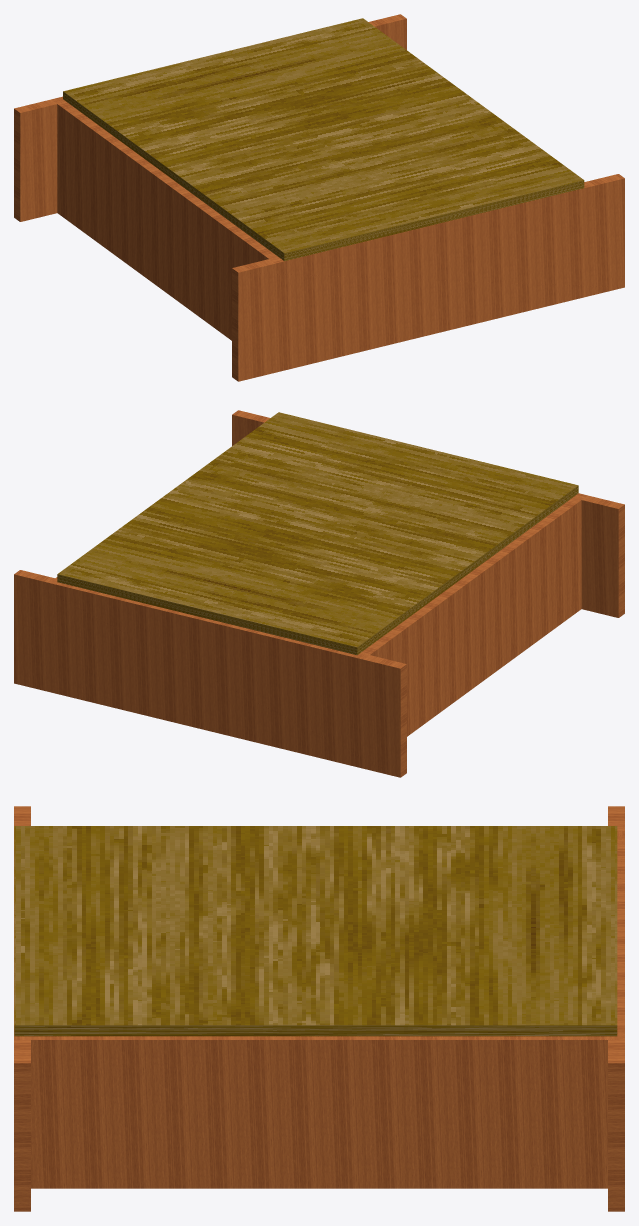
Rendered from SecondFloor.glb.
3 views of the same model, one above another, from view 1: azimuth 30°, elevation 25°; view 2: azimuth 150°, elevation 25°; view 3: azimuth 270°, elevation 25° (orthographic). The views are drawn at different scales.
Visible parts, largest first — view 1: cabinet.003; view 2: cabinet.003; view 3: cabinet.003.
Part boxes in pixels (x1=…): cabinet.003: x1=14, y1=14, x2=624, y2=381; cabinet.003: x1=14, y1=410, x2=624, y2=777; cabinet.003: x1=14, y1=806, x2=624, y2=1211.
Size of what is drawn, in the model's own units: 71.31 by 20.63 by 71.66.
Materials: 12 (11 with a texture image).
